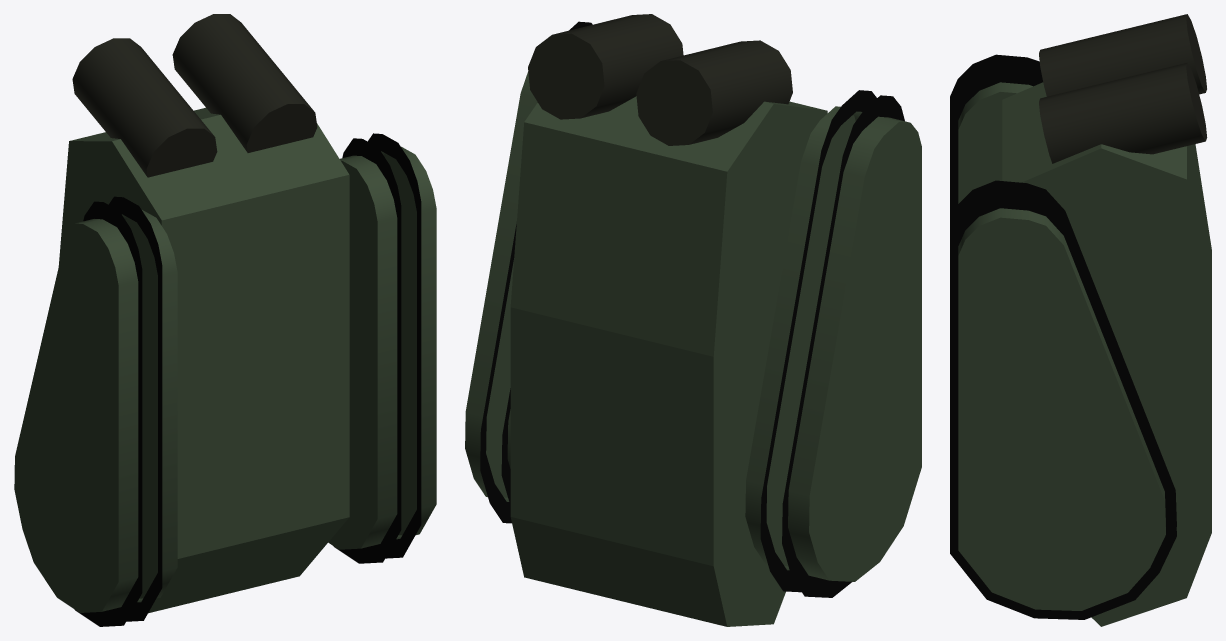
The model's file is tank_body.FBX.
3 renders of one model, left to right at view 1: azimuth 30°, elevation 25°; view 2: azimuth 150°, elevation 25°; view 3: azimuth 270°, elevation 25°, orthographic. The views are drawn at different scales.
Visible parts, largest first — view 1: Box028; view 2: Box028; view 3: Box028.
Part boxes in pixels (left/top/right/bottom): Box028: left=14, top=14, right=436, bottom=626; Box028: left=465, top=14, right=921, bottom=626; Box028: left=950, top=14, right=1211, bottom=626.
Size of the model in its own units: 16.19 by 11.6 by 26.37.
